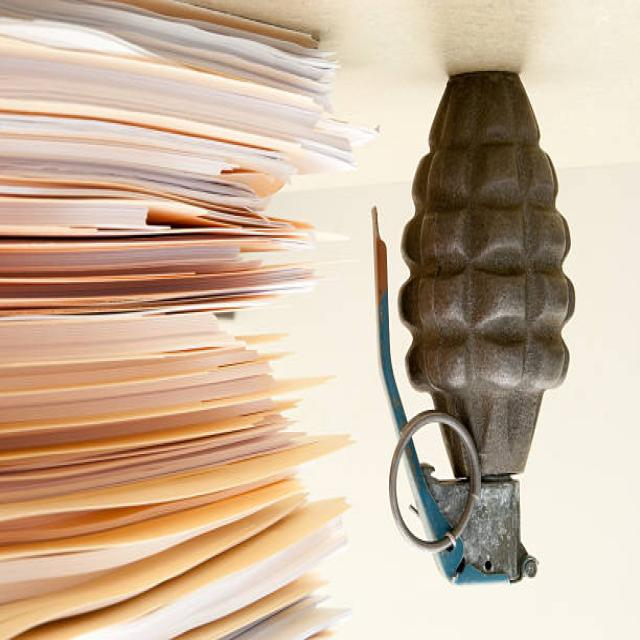grenade: (365, 56, 579, 595)
